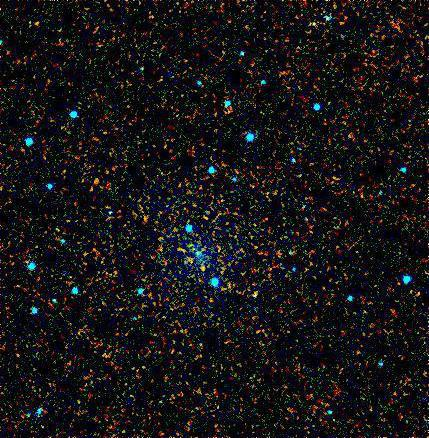star: (200, 254, 230, 284)
